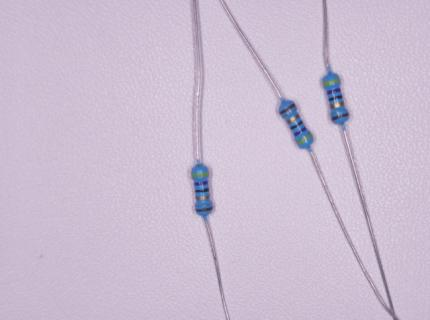Black band: (290, 120, 303, 131), (328, 94, 343, 102), (195, 187, 209, 193)
Brown band: (279, 103, 296, 116), (332, 112, 349, 121), (195, 206, 213, 212)
Gold band: (286, 114, 300, 124), (330, 101, 345, 109), (196, 195, 210, 200)
Violet band: (293, 126, 307, 137), (327, 87, 341, 95), (195, 180, 208, 185)
Yellow band: (296, 134, 313, 146), (322, 78, 340, 87), (192, 171, 209, 177)
